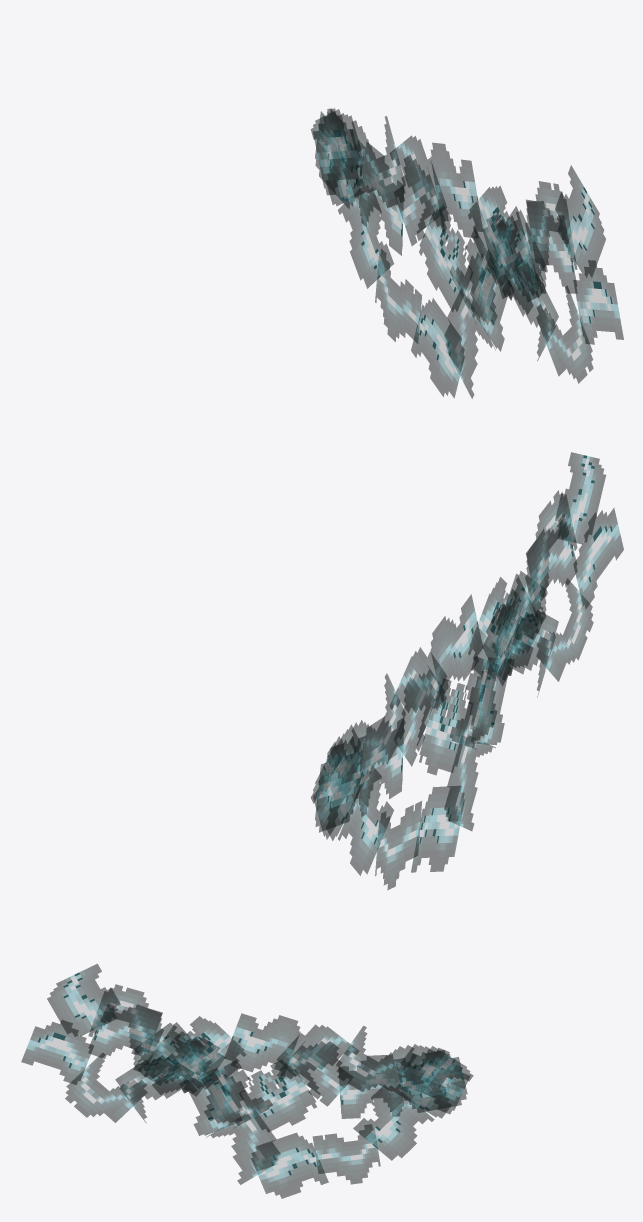
Rendered from 66_efe.gltf.
3 renders of one model, top to bottom at view 1: azimuth 30°, elevation 25°; view 2: azimuth 150°, elevation 25°; view 3: azimuth 270°, elevation 25°, orthographic. The views are drawn at different scales.
Bounding box in the file's own units: 400 × 345 × 780.
1 material, 1 textured.
